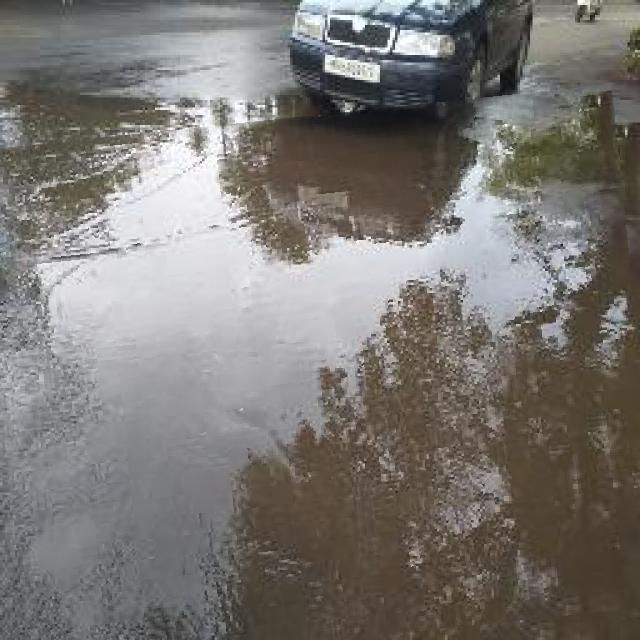puddle: (1, 101, 640, 640)
